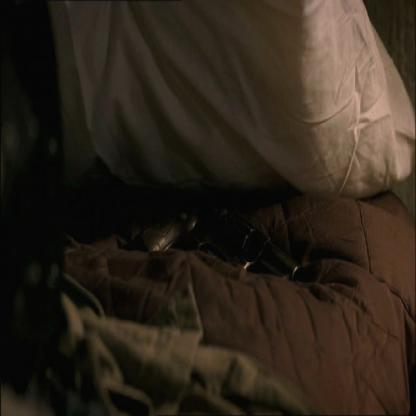Gun: (140, 195, 304, 283)
